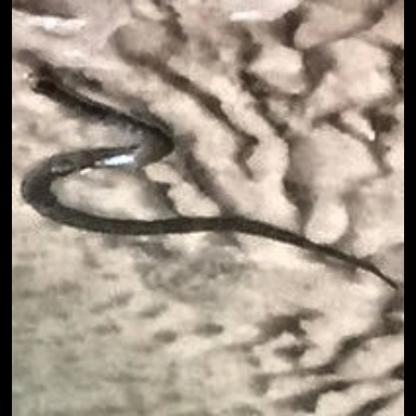Snake: (21, 69, 411, 292)
